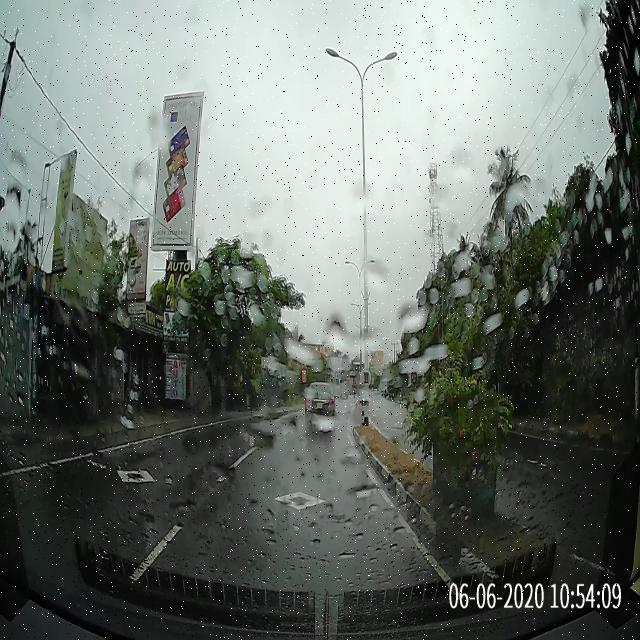diamond: (191, 480, 404, 521)
